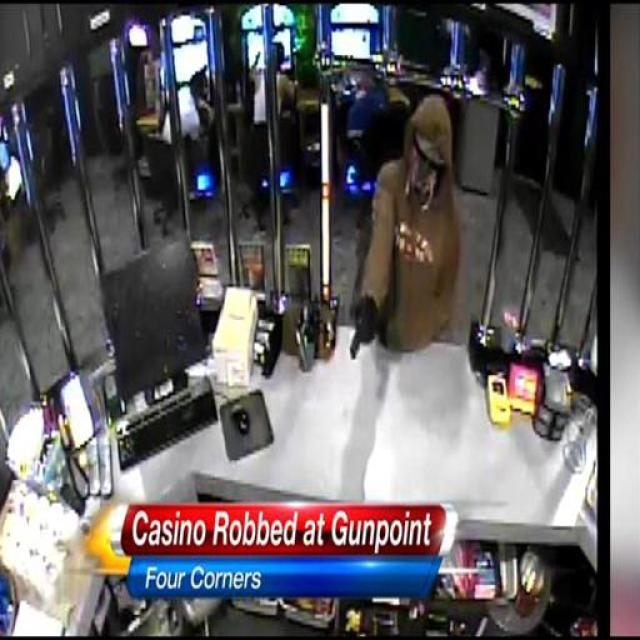pistol: (335, 300, 389, 372)
